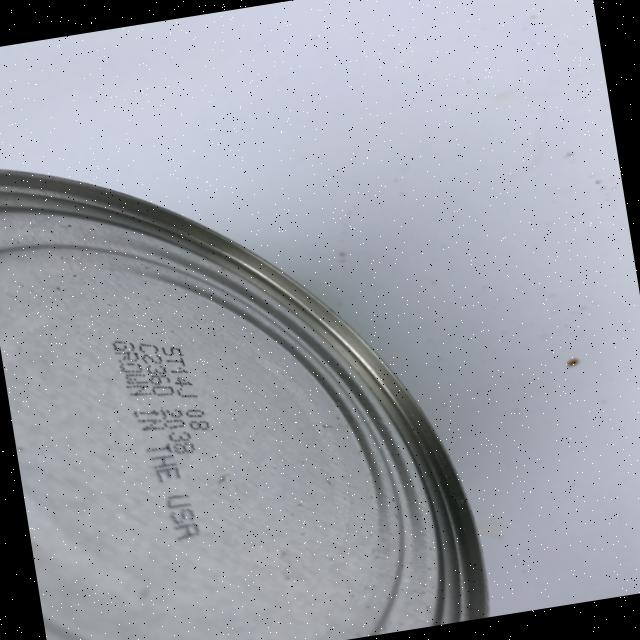metal: (0, 96, 494, 640)
